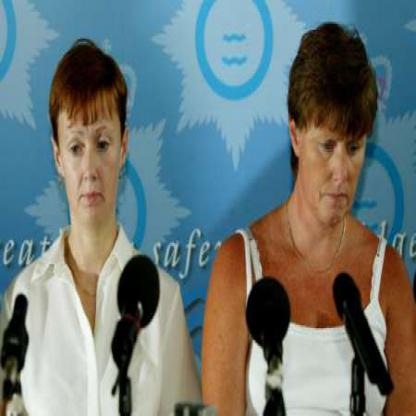face: (301, 48, 368, 230), (60, 55, 123, 228)
